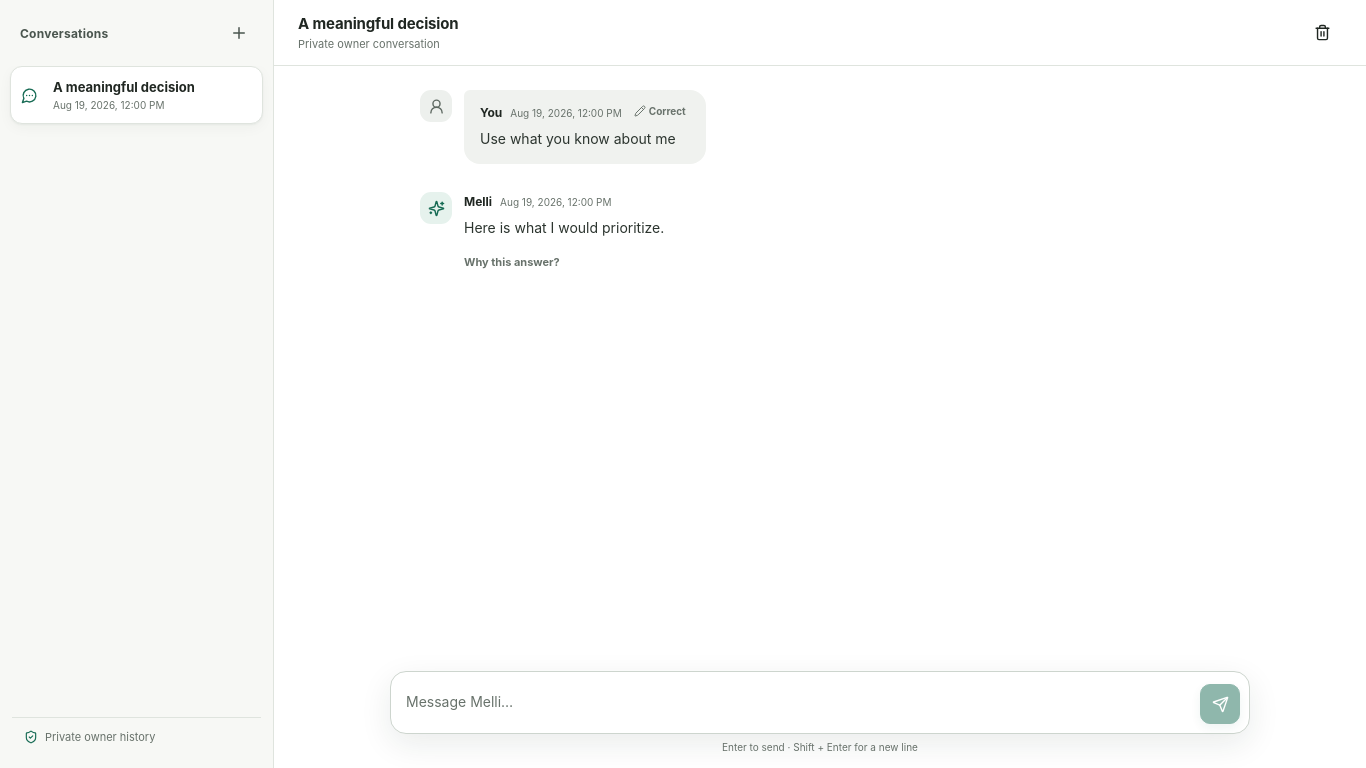
Scenario: ConversationPage › explains only useful context and privacy by default
This screenshot has width=1366, height=768.
Click the button "Why this answer?".
click(512, 262)  # box [464,250,560,274]
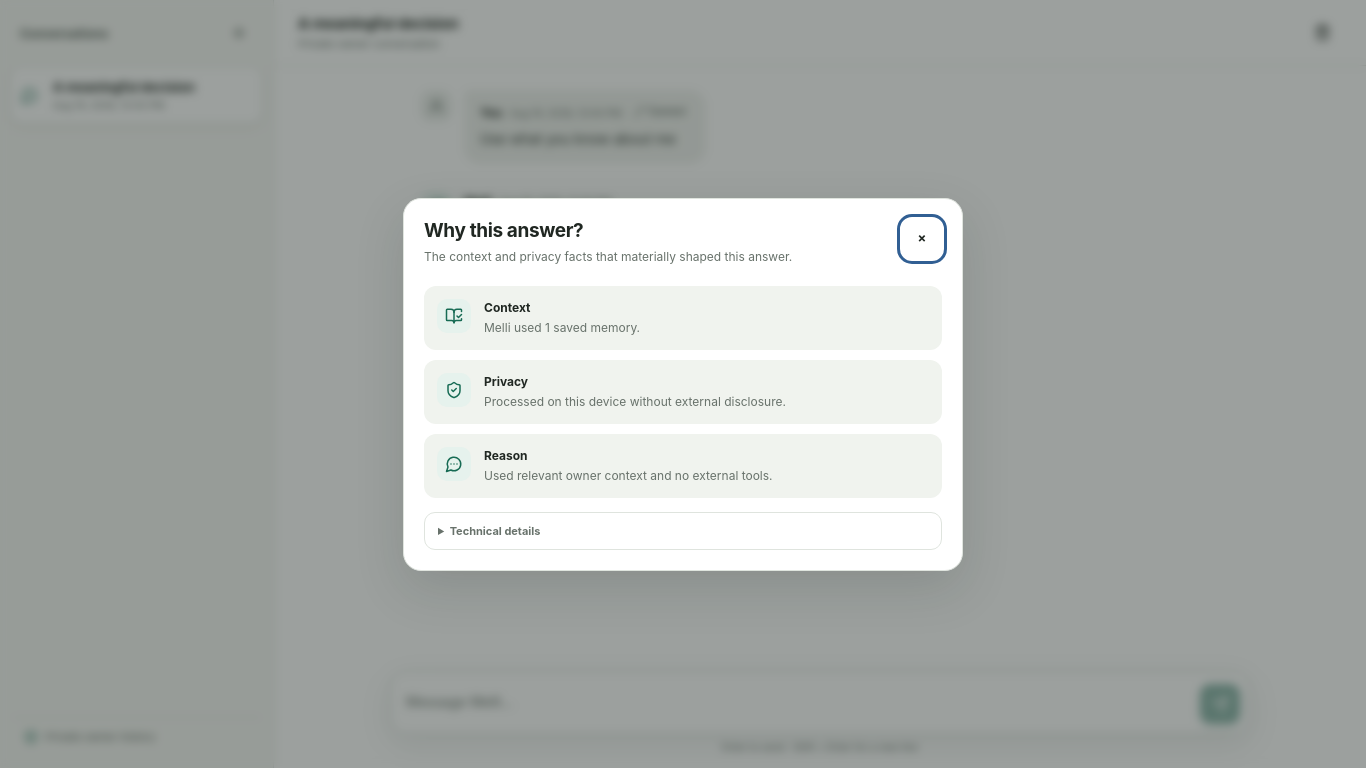
Expected: the text "Melli used 1 saved memory." is shown, [484,320,640,334]
Expected: the text "Processed on this device without external disclosure." is shown, [484,394,786,408]
